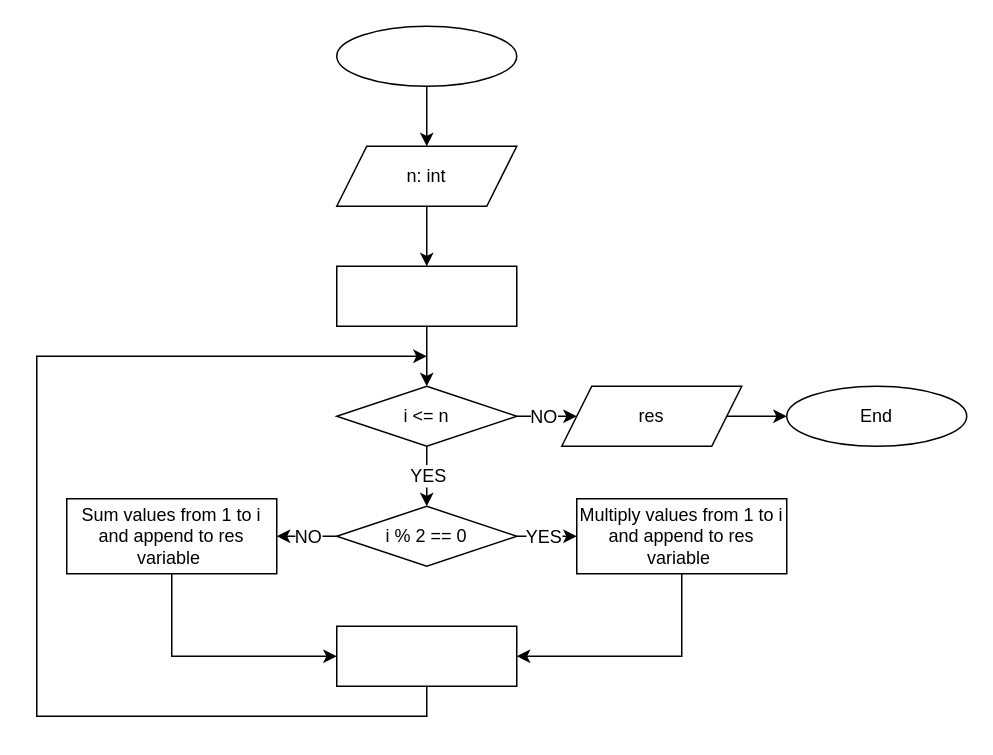
Some shapes in this 993 by 755 pixel diagram are drawn without their labels. The shapes that lost their labels are listed below. From the top down, each one's centre as x and y in pixels, then its label:
(x=426, y=55): Start
(x=426, y=295): res = [], i = 1
(x=426, y=655): i = i + 1
